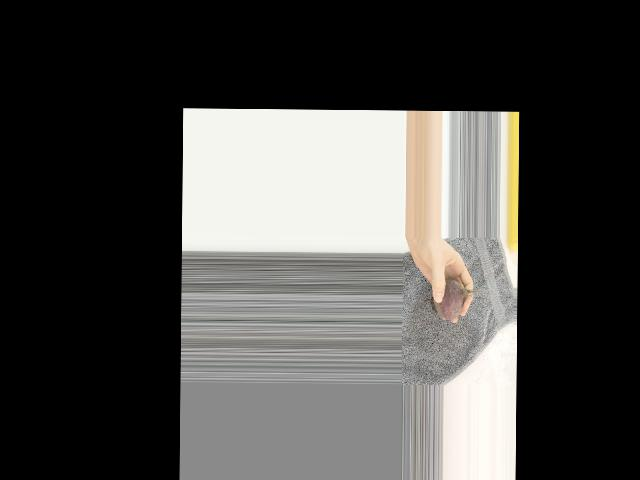beet: (429, 279, 491, 320)
